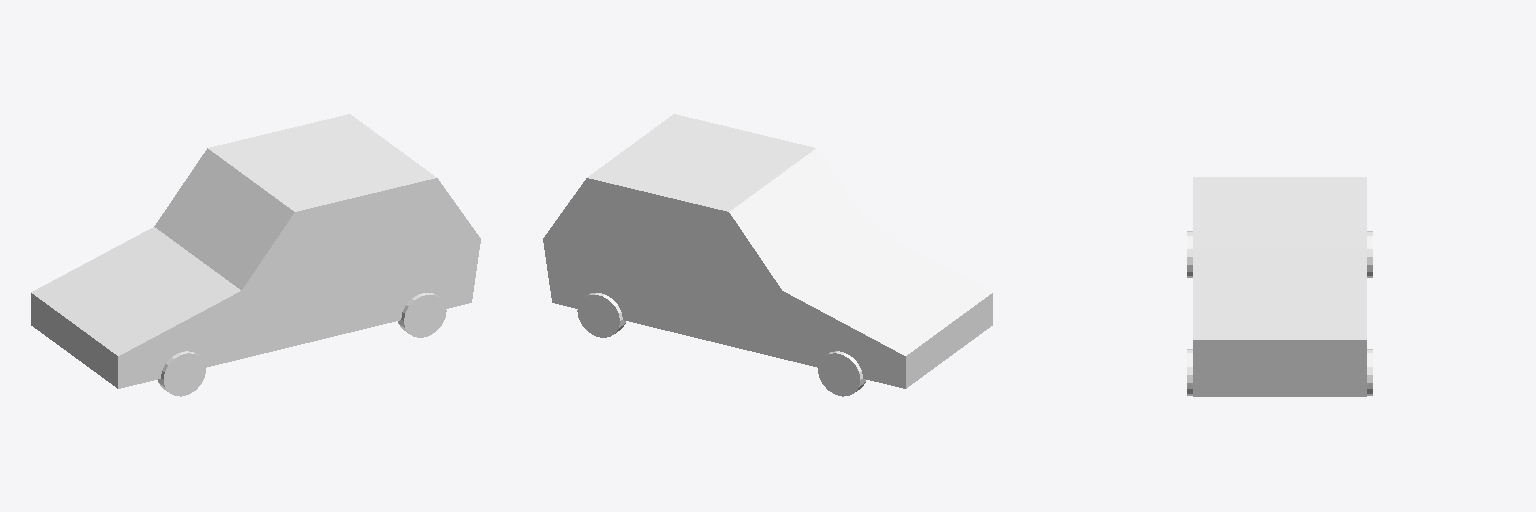
File: car.obj
3 renders of one model, left to right at view 1: azimuth 30°, elevation 25°; view 2: azimuth 150°, elevation 25°; view 3: azimuth 270°, elevation 25°, orthographic.
Visible parts, largest first — view 1: CAR_02; view 2: CAR_02; view 3: CAR_02.
Part boxes in pixels (left/top/right/bottom): CAR_02: left=31, top=114, right=480, bottom=396; CAR_02: left=543, top=114, right=992, bottom=396; CAR_02: left=1187, top=177, right=1372, bottom=396.
Bounding box in the file's own units: 28.2 × 11.45 × 12.5.